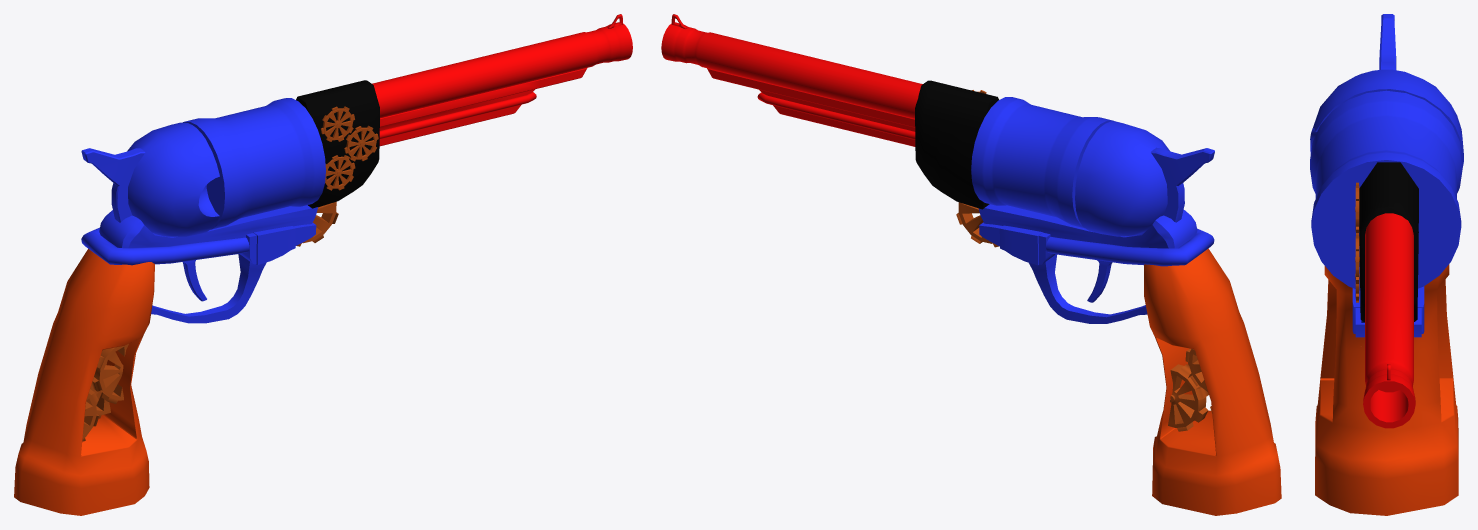
The model's file is PistolaManoDerecha.FBX.
3 views of the same model, side by side, from view 1: azimuth 30°, elevation 25°; view 2: azimuth 150°, elevation 25°; view 3: azimuth 270°, elevation 25° (orthographic). The views are drawn at different scales.
Visible parts, largest first — view 1: Empuñadura_LP, Cargador_LP, Cañon_LP, ZonaMartillo_LP, Camara_LP, Mecanismos_LP, Bajocañon_LP, TUBO_LP, Engranaje_LP, CamaraEngranaje_LP, Martillo_LP, Guarda_LP (+2 smaller); view 2: Empuñadura_LP, Cargador_LP, Cañon_LP, ZonaMartillo_LP, Camara_LP, Mecanismos_LP, Bajocañon_LP, TUBO_LP, Engranaje_LP, Martillo_LP, Guarda_LP, Caja_LP (+1 smaller); view 3: Empuñadura_LP, Cargador_LP, Cañon_LP, Camara_LP, ZonaMartillo_LP, Martillo_LP, Caja_LP, CamaraEngranaje_LP.
Part boxes in pixels (box(x1,y1,x2,y2)): Empuñadura_LP: box(14, 248, 154, 515); Cargador_LP: box(183, 98, 325, 229); Cañon_LP: box(372, 22, 632, 118); ZonaMartillo_LP: box(127, 122, 219, 236); Camara_LP: box(296, 80, 379, 208); Mecanismos_LP: box(99, 205, 317, 248); Bajocañon_LP: box(379, 68, 587, 146); TUBO_LP: box(81, 227, 249, 265); Engranaje_LP: box(82, 201, 338, 441); CamaraEngranaje_LP: box(321, 106, 378, 190); Martillo_LP: box(81, 148, 145, 222); Guarda_LP: box(151, 254, 266, 323); Empuñadura_LP: box(1144, 248, 1281, 515); Cargador_LP: box(971, 97, 1114, 228); Cañon_LP: box(661, 22, 922, 118); ZonaMartillo_LP: box(1075, 121, 1170, 236); Camara_LP: box(915, 80, 998, 209); Mecanismos_LP: box(978, 204, 1197, 248); Bajocañon_LP: box(707, 68, 915, 146); TUBO_LP: box(1046, 228, 1214, 266); Engranaje_LP: box(956, 202, 1212, 431); Martillo_LP: box(1151, 148, 1214, 222); Guarda_LP: box(1029, 254, 1147, 323); Caja_LP: box(979, 222, 1055, 265); Empuñadura_LP: box(1315, 264, 1458, 515); Cargador_LP: box(1310, 90, 1462, 290); Cañon_LP: box(1363, 213, 1415, 428); Camara_LP: box(1359, 162, 1418, 321); ZonaMartillo_LP: box(1310, 69, 1463, 167); Martillo_LP: box(1379, 14, 1396, 70); Caja_LP: box(1352, 286, 1424, 337); CamaraEngranaje_LP: box(1355, 182, 1359, 302).
Bounding box in the file's own units: 0.6672 × 0.3625 × 0.1069.
